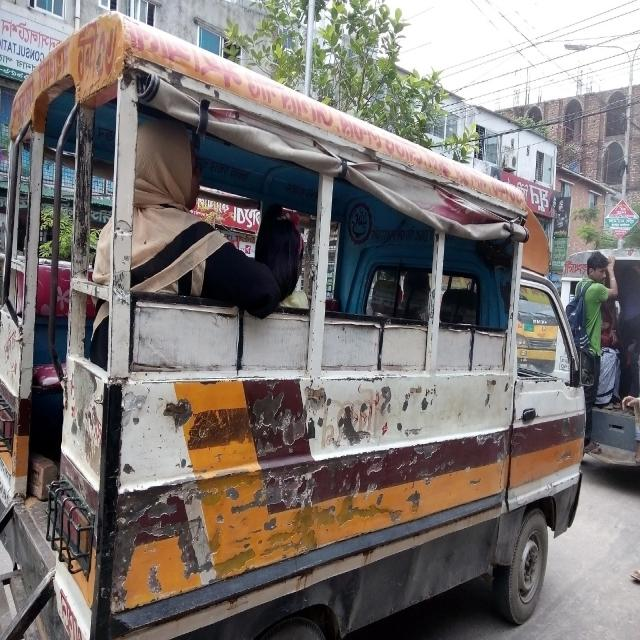Leguna: (2, 25, 600, 640)
